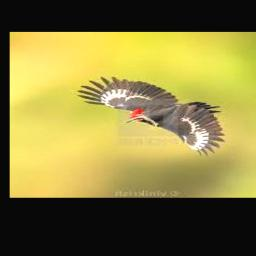Woodpecker: (76, 76, 226, 156)
